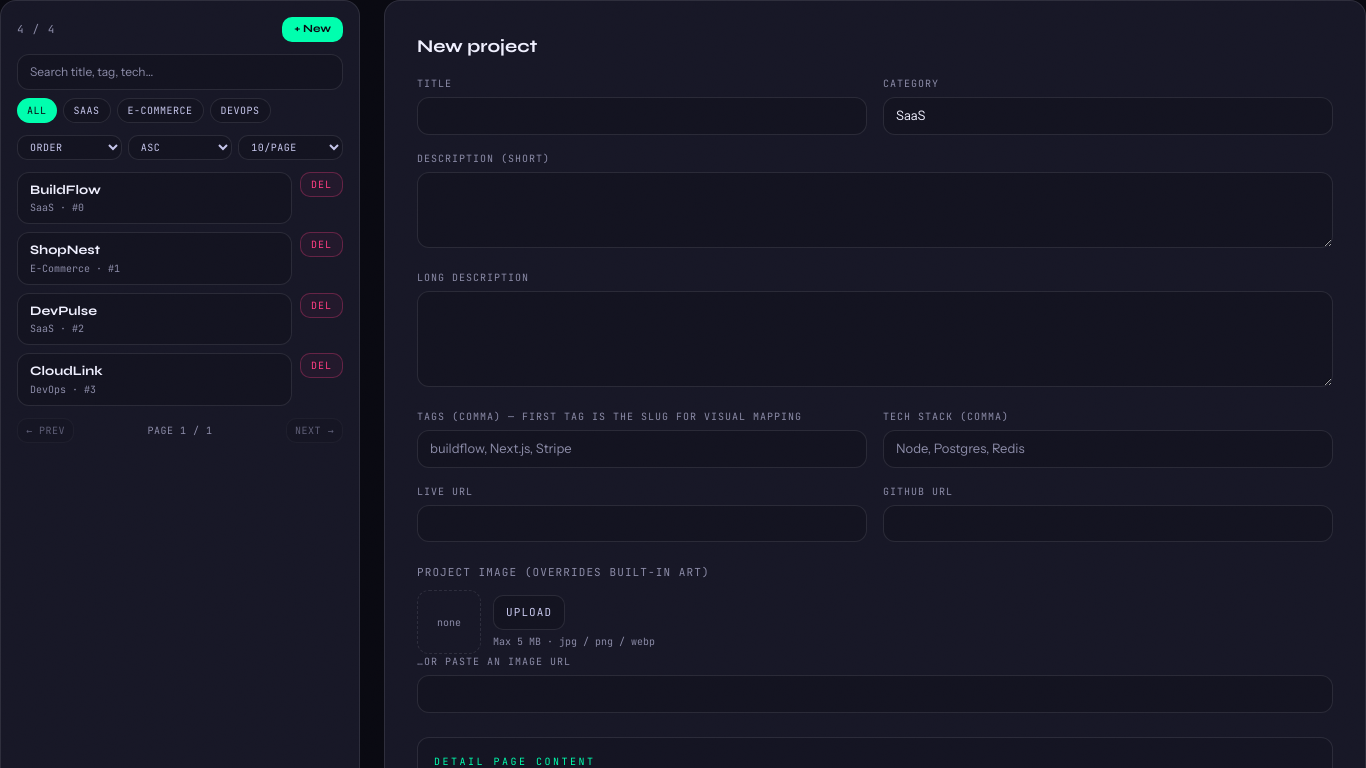
Test: Admin filter UI › ProjectsTab: category chip narrows to that category
The width and height of the screenshot is (1366, 768).
Check: the text with test id "projects-counter" reads "4 / 4", box [17,21,56,38]
Click the button "SaaS": {"x": 86, "y": 110} [62,98,110,122]
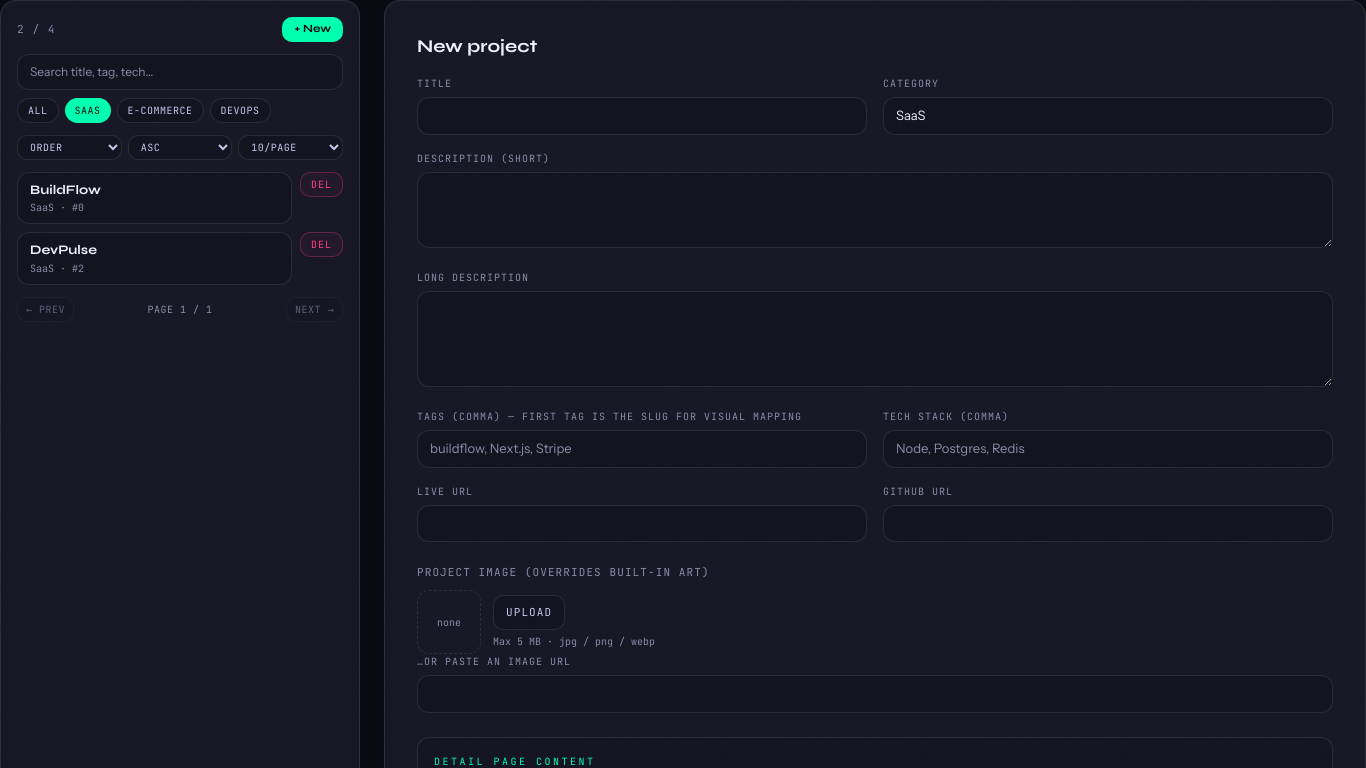
Check: the text "BuildFlow" is shown, box [30,182,101,198]
Check: the text with test id "projects-counter" reads "2 / 4", box [17,21,56,38]
Check: the button "ShopNest" is gone
